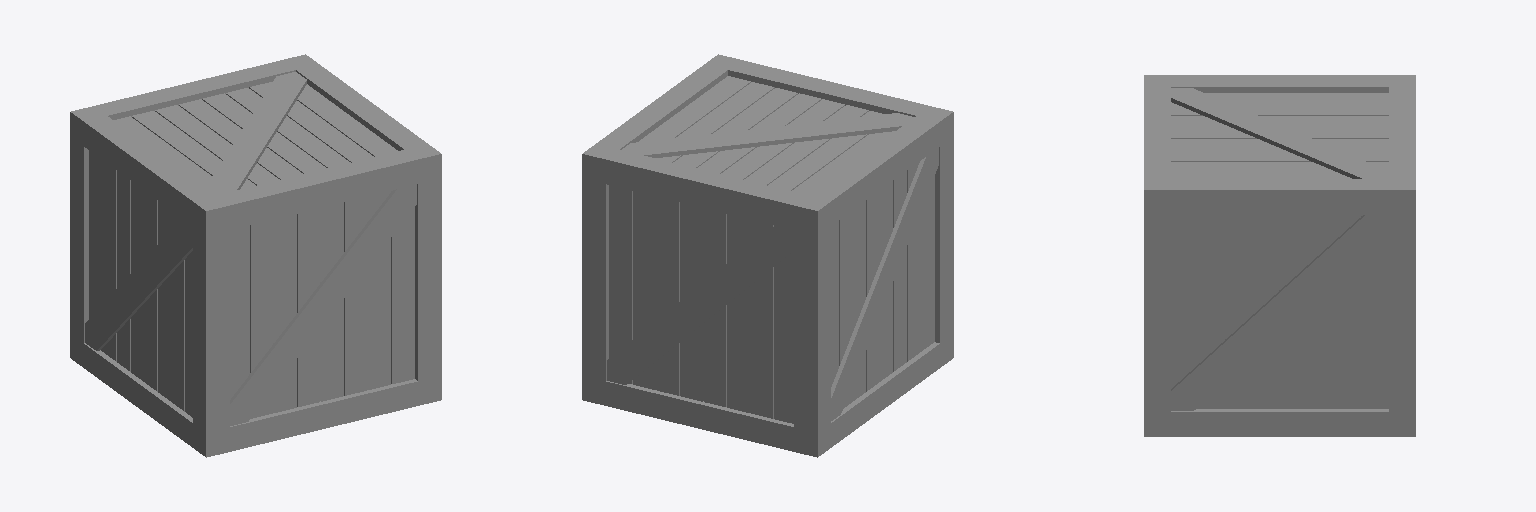
File: Realistic_Box.obj
The picture shows the model from 3 angles: view 1: azimuth 30°, elevation 25°; view 2: azimuth 150°, elevation 25°; view 3: azimuth 270°, elevation 25°; orthographic projection.
Parts seen in each view (by area): view 1: Box_Plane.001; view 2: Box_Plane.001; view 3: Box_Plane.001.
Part boxes in pixels (bbox=[...]): Box_Plane.001: bbox=[70, 54, 441, 457]; Box_Plane.001: bbox=[582, 54, 953, 457]; Box_Plane.001: bbox=[1144, 75, 1415, 436].
Size of the model in its own units: 4 by 4 by 4.